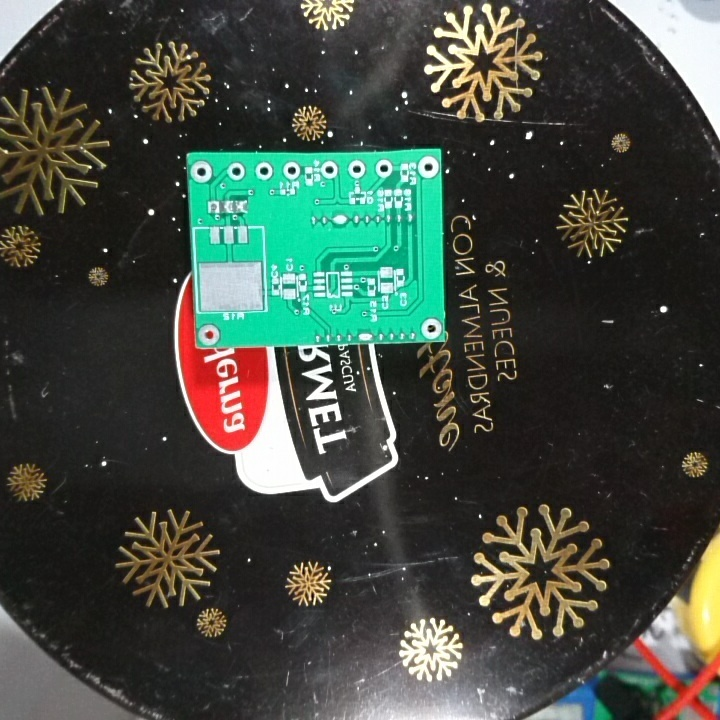F: (190, 159, 216, 186), (195, 322, 221, 348), (415, 156, 439, 180), (419, 316, 443, 340), (279, 160, 302, 182), (374, 158, 395, 180), (253, 160, 273, 183), (226, 161, 247, 180), (205, 196, 221, 220), (319, 160, 340, 178), (347, 160, 366, 179)
P: (328, 209, 349, 231), (354, 329, 376, 346)
